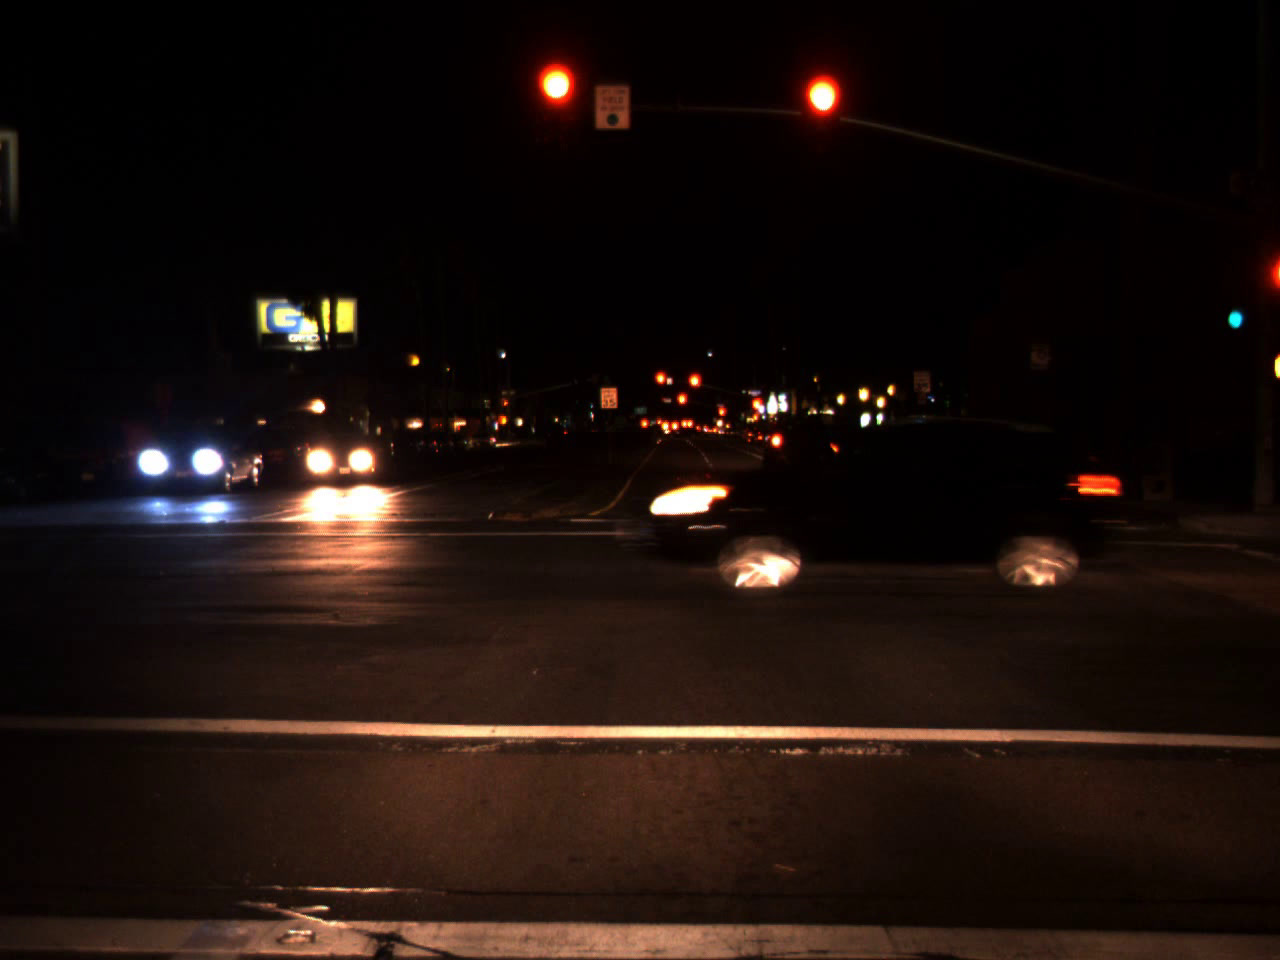stop: (538, 64, 578, 142), (802, 75, 842, 153), (686, 371, 703, 403), (653, 370, 666, 399), (676, 391, 688, 418), (750, 396, 763, 412), (717, 406, 726, 427), (503, 400, 509, 410)
